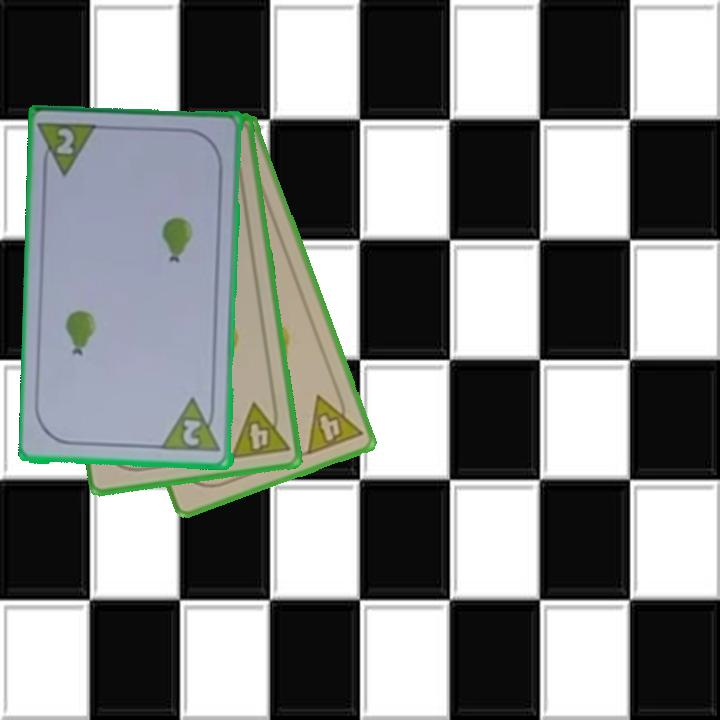2p: (160, 395, 224, 456), (37, 120, 102, 180)
4p: (303, 385, 365, 458), (227, 397, 292, 462)
